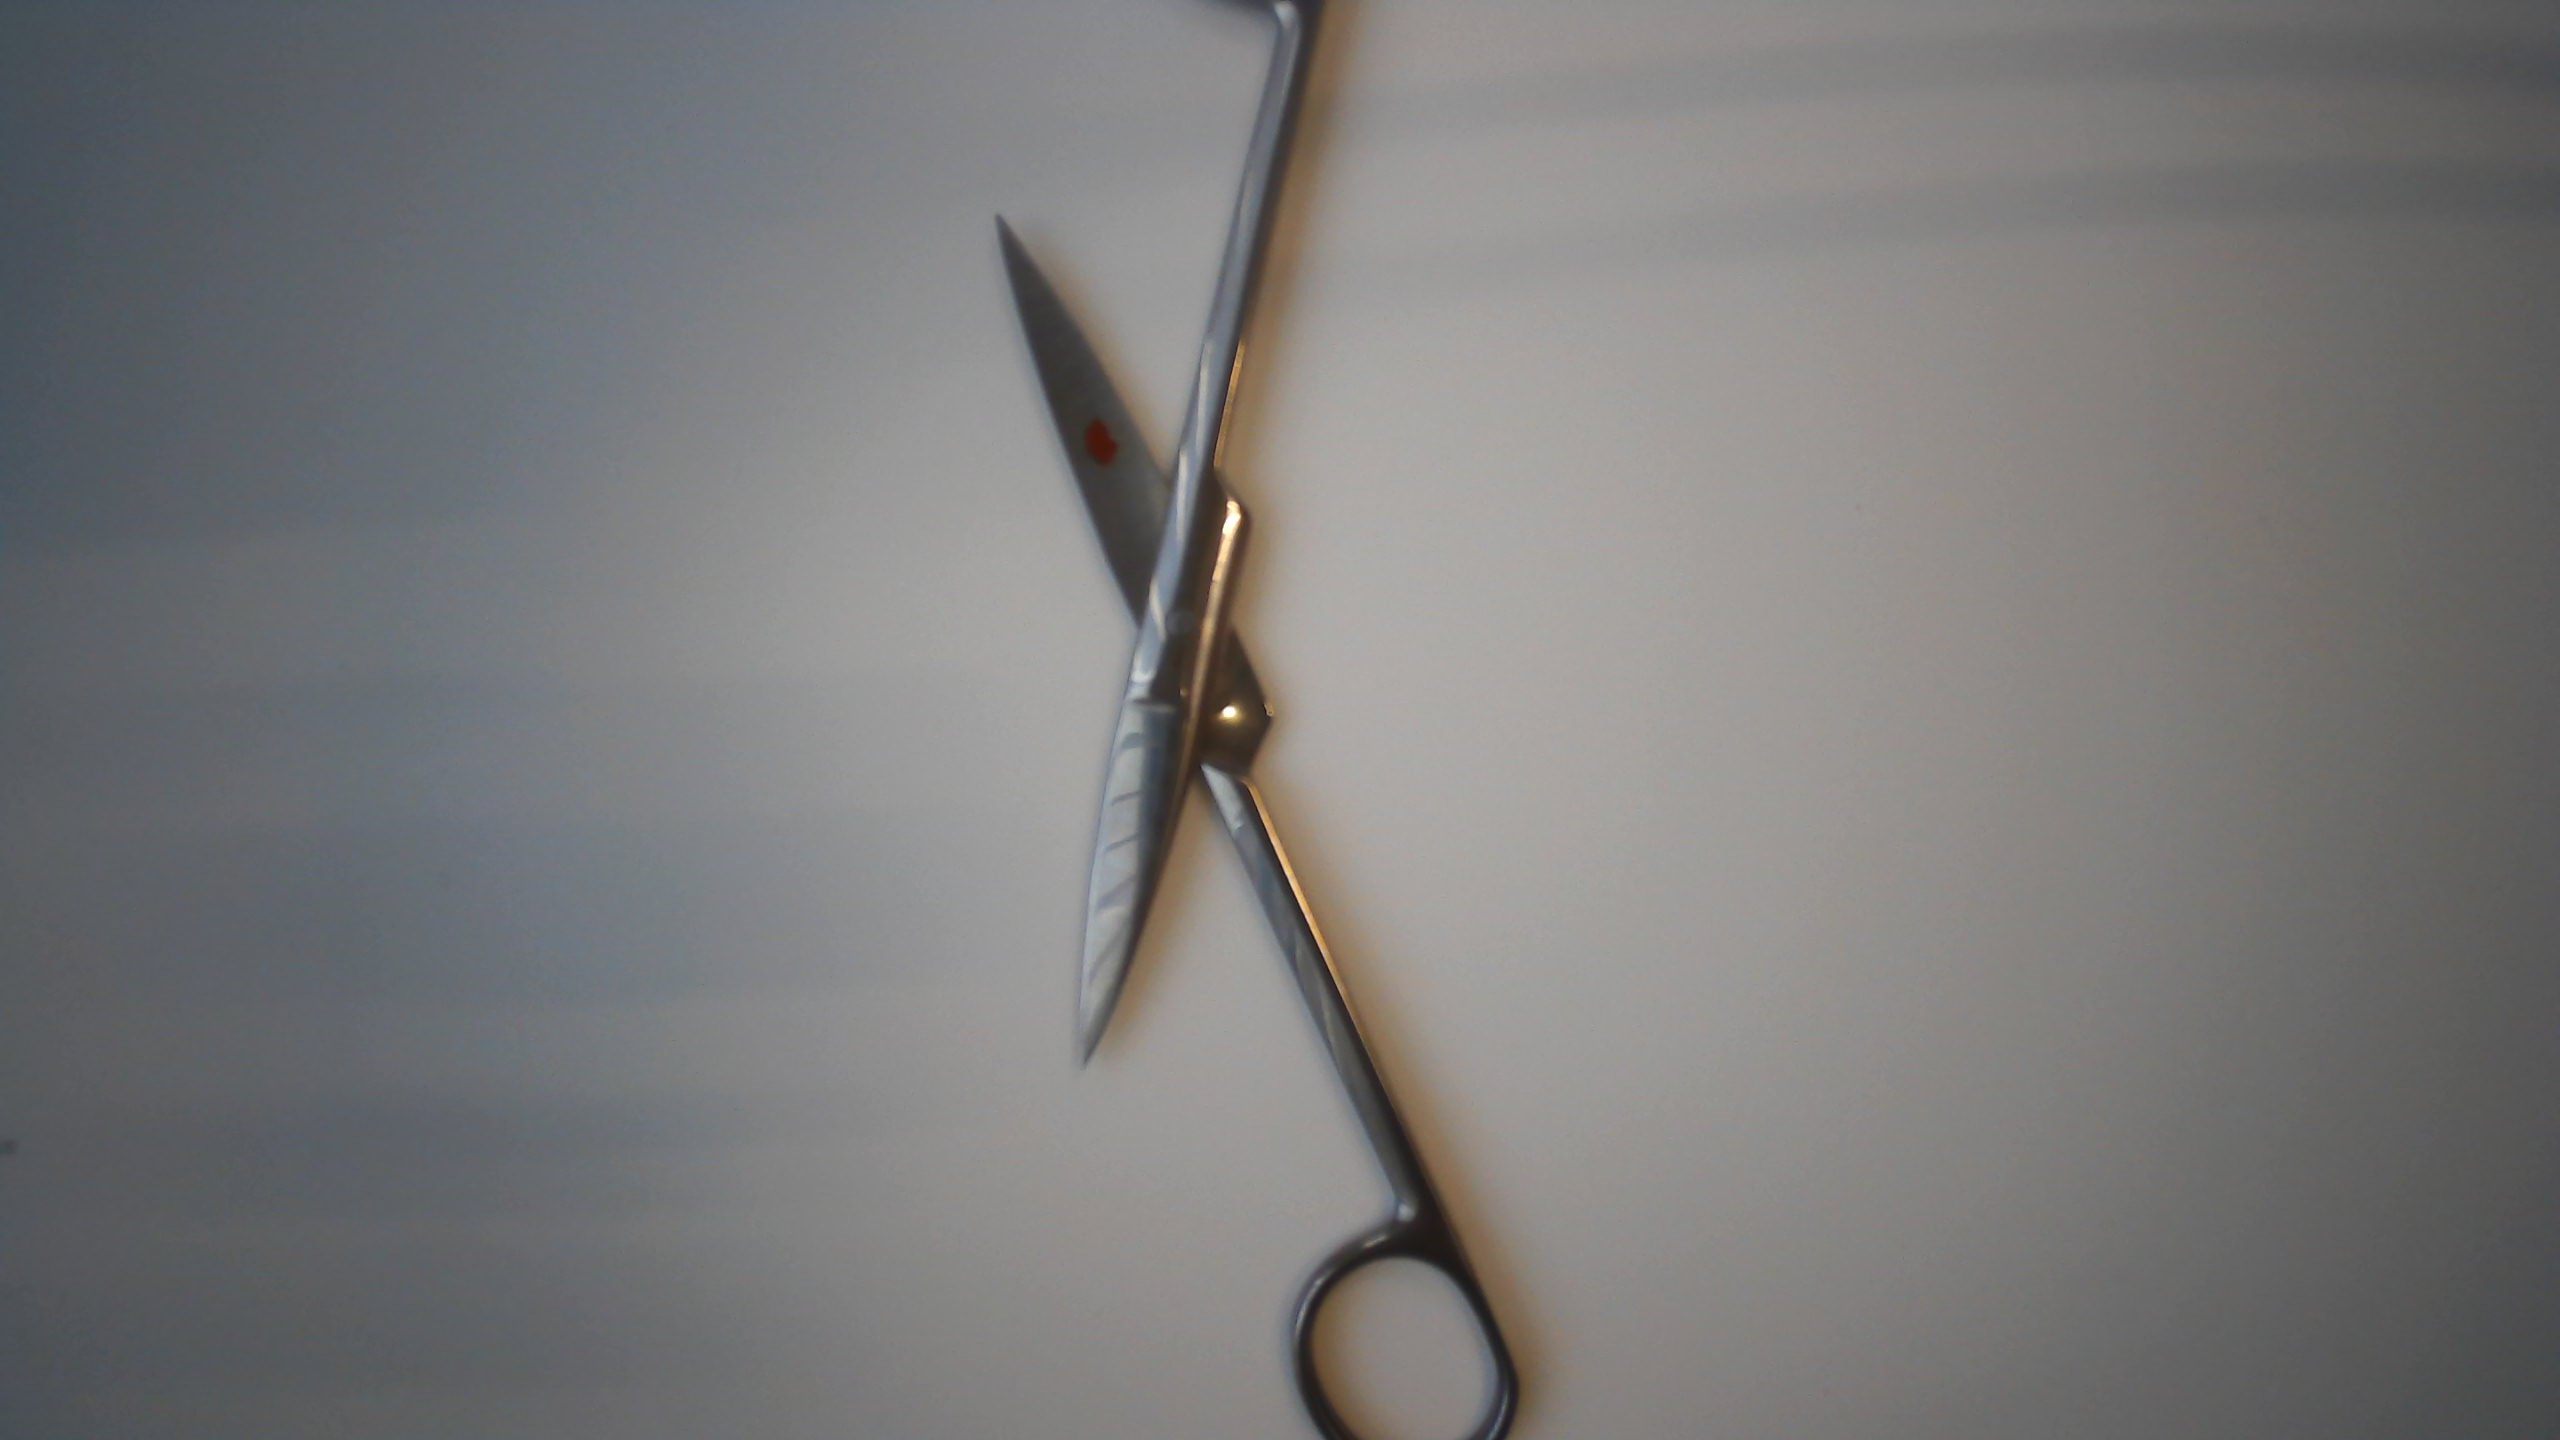Stain: (1069, 411, 1125, 476)
